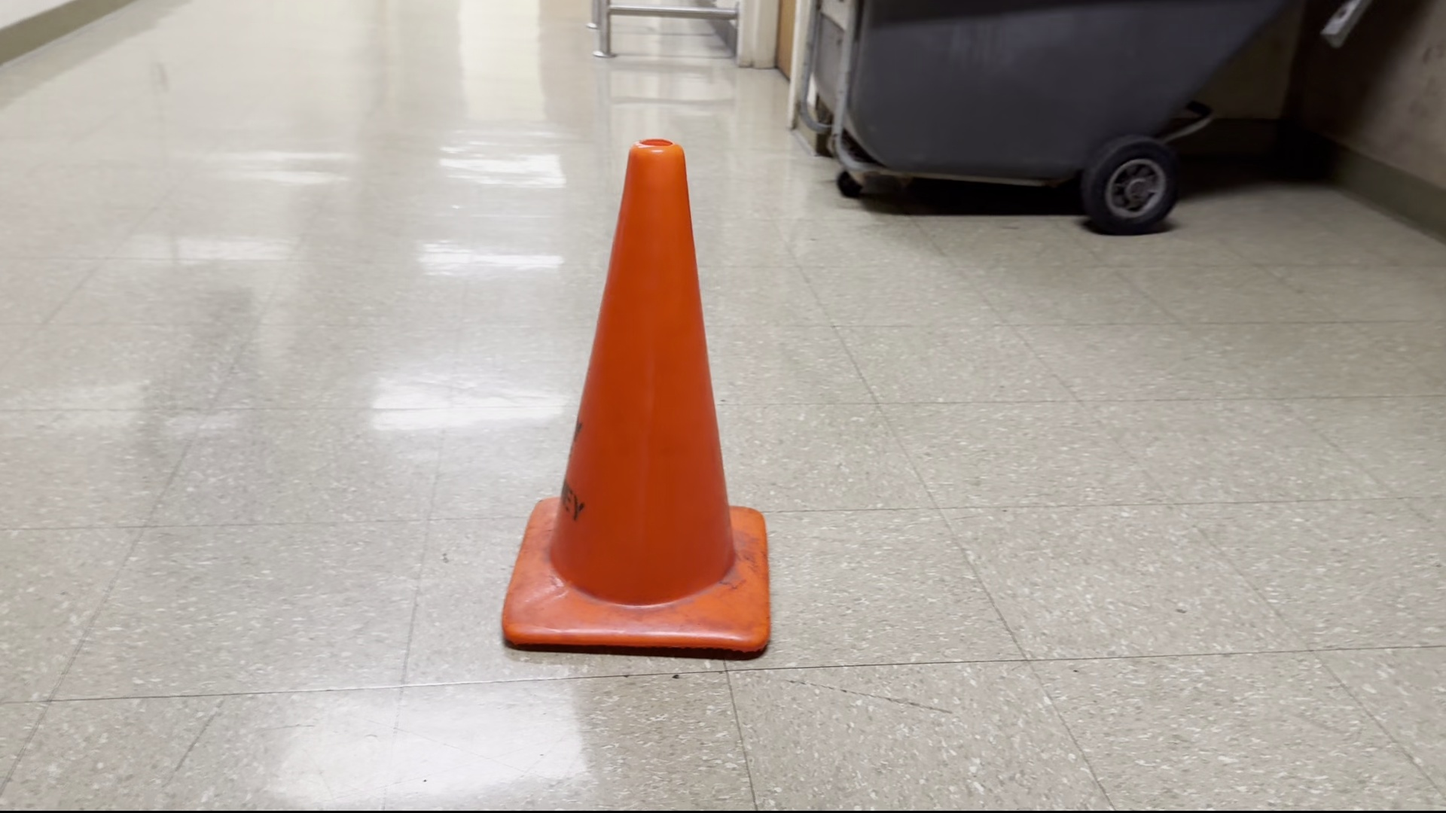traffic_cone: (501, 137, 772, 657)
